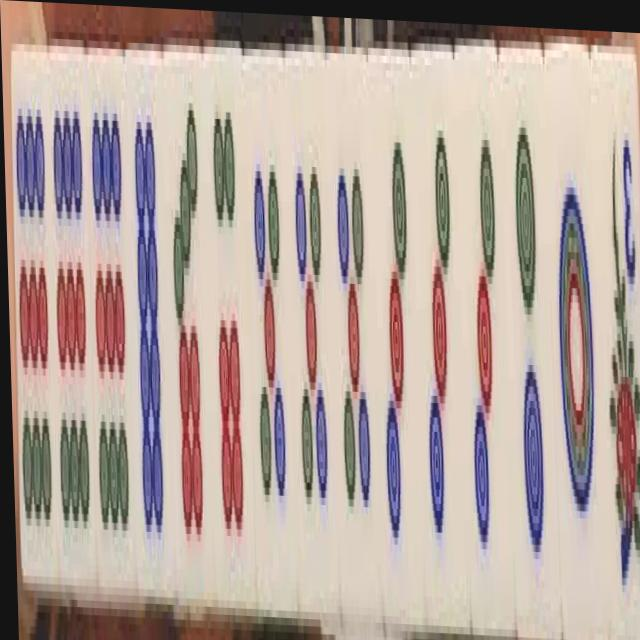f3: (594, 53, 640, 640)
t1: (547, 57, 607, 640)
t2: (500, 63, 560, 635)
t3: (410, 68, 468, 613), (456, 65, 512, 624), (369, 73, 422, 610)
t5: (286, 86, 339, 605), (329, 85, 382, 596), (246, 88, 296, 591)
t6: (204, 67, 254, 602)
t7: (164, 71, 215, 611)
t8: (126, 69, 175, 578)
t9: (84, 51, 138, 576), (8, 63, 60, 563), (46, 59, 96, 567)
